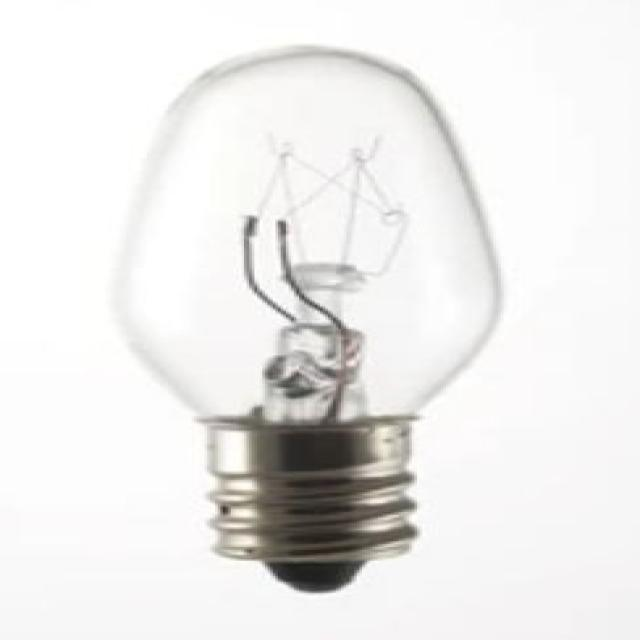electronic: (108, 41, 506, 593)
